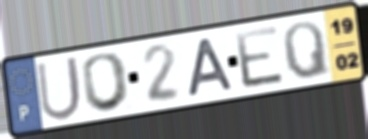2: (140, 43, 184, 106)
A: (185, 36, 236, 99)
E: (232, 23, 288, 91)
O: (80, 50, 134, 114)
Q: (280, 19, 333, 82)
U: (34, 53, 85, 123)
